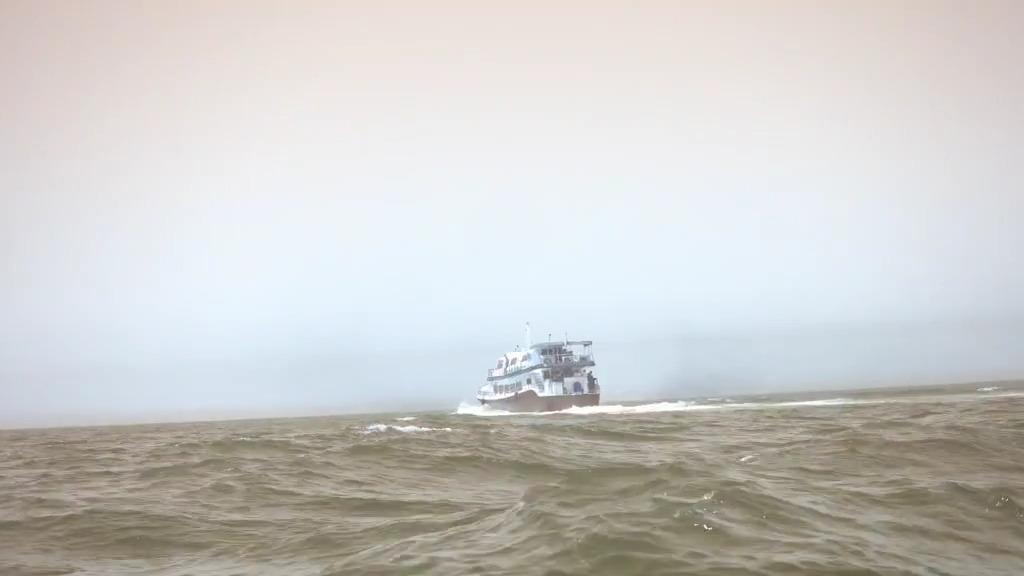PassengerShip: (470, 314, 610, 416)
